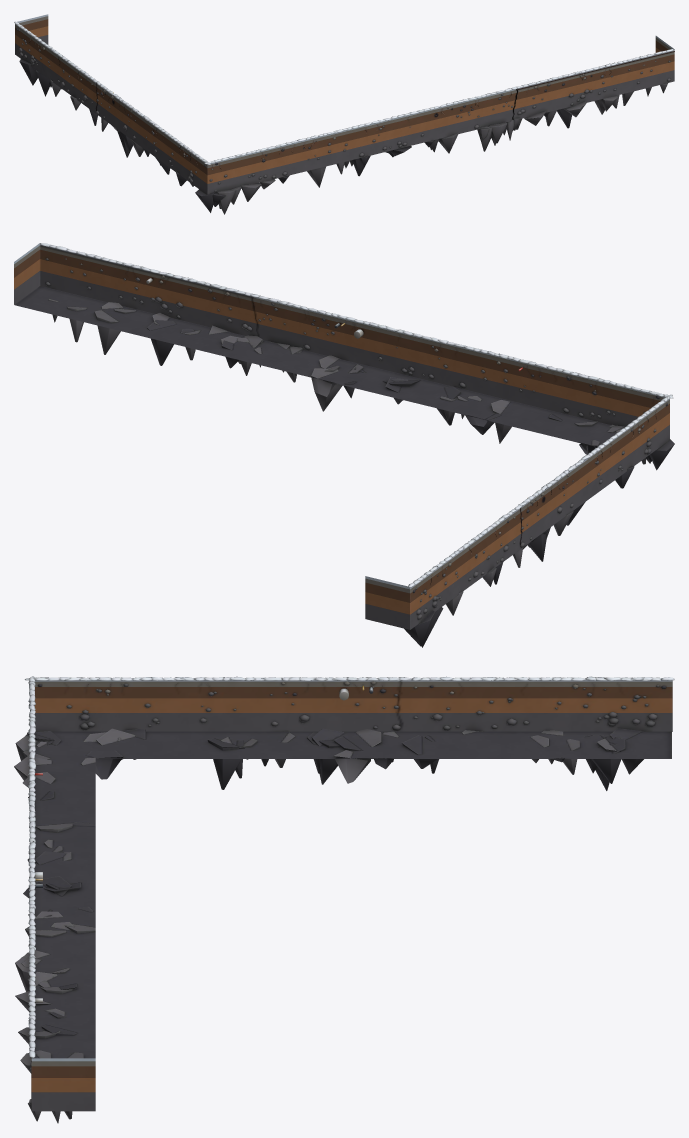
The model's file is fener_hood_slab.glb.
3 renders of one model, top to bottom at view 1: azimuth 30°, elevation 25°; view 2: azimuth 150°, elevation 25°; view 3: azimuth 270°, elevation 25°, orthographic. The views are drawn at different scales.
Parts seen in each view (by area): view 1: fener_hood_slab_0_0, fener_hood_slab_4_0, fener_hood_slab_10_0, fener_hood_slab_12_0, fener_hood_slab_3_0, fener_hood_slab_7_0, fener_hood_slab_9_0, fener_hood_slab_6_0, fener_hood_slab_11_0, fener_hood_slab_13_0, fener_hood_slab_8_0, fener_hood_slab_5_0 (+17 smaller); view 2: fener_hood_slab_12_0, fener_hood_slab_7_0, fener_hood_slab_3_0, fener_hood_slab_10_0, fener_hood_slab_9_0, fener_hood_slab_11_0, fener_hood_slab_4_0, fener_hood_slab_6_0, fener_hood_slab_8_0, fener_hood_slab_1_0, fener_hood_slab_5_0, fener_hood_slab_13_0 (+13 smaller); view 3: fener_hood_slab_0_8, fener_hood_slab_0_4, fener_hood_slab_0_3, fener_hood_slab_0_1, fener_hood_slab_0_5, fener_hood_slab_0_9, fener_hood_slab_0_2, fener_hood_slab_0_6, fener_hood_slab_0_7, fener_hood_slab_0_0, fener_hood_slab_14_0, fener_hood_slab_6_0 (+10 smaller).
Part boxes in pixels (x1,y1,x2,y2): fener_hood_slab_0_0: (188, 148, 240, 212); fener_hood_slab_4_0: (336, 121, 374, 176); fener_hood_slab_10_0: (541, 72, 574, 126); fener_hood_slab_12_0: (596, 56, 641, 114); fener_hood_slab_3_0: (307, 129, 340, 187); fener_hood_slab_7_0: (432, 97, 474, 153); fener_hood_slab_9_0: (503, 81, 541, 140); fener_hood_slab_6_0: (406, 106, 441, 149); fener_hood_slab_11_0: (566, 64, 607, 128); fener_hood_slab_13_0: (640, 49, 674, 96); fener_hood_slab_8_0: (474, 89, 507, 151); fener_hood_slab_5_0: (374, 113, 407, 157); fener_hood_slab_12_0: (59, 253, 129, 354); fener_hood_slab_7_0: (284, 308, 354, 411); fener_hood_slab_3_0: (464, 352, 534, 443); fener_hood_slab_10_0: (149, 275, 219, 362); fener_hood_slab_9_0: (194, 286, 264, 375); fener_hood_slab_11_0: (104, 264, 174, 365); fener_hood_slab_4_0: (419, 341, 489, 425); fener_hood_slab_6_0: (329, 319, 399, 398); fener_hood_slab_8_0: (239, 297, 309, 382); fener_hood_slab_1_0: (554, 374, 624, 454); fener_hood_slab_5_0: (374, 330, 444, 404); fener_hood_slab_13_0: (14, 243, 84, 322); fener_hood_slab_0_8: (544, 677, 608, 790); fener_hood_slab_0_4: (288, 677, 351, 784); fener_hood_slab_0_3: (223, 677, 287, 789); fener_hood_slab_0_1: (95, 677, 159, 779); fener_hood_slab_0_5: (352, 677, 416, 782); fener_hood_slab_0_9: (608, 677, 672, 784); fener_hood_slab_0_2: (159, 677, 223, 789); fener_hood_slab_0_6: (416, 677, 480, 773); fener_hood_slab_0_7: (480, 677, 544, 762); fener_hood_slab_0_0: (31, 677, 95, 758); fener_hood_slab_14_0: (31, 1058, 95, 1111); fener_hood_slab_6_0: (31, 840, 95, 920).
Bounding box in the file's own units: 113 × 14.53 × 82.45.
Materials: 1 (1 with a texture image).
